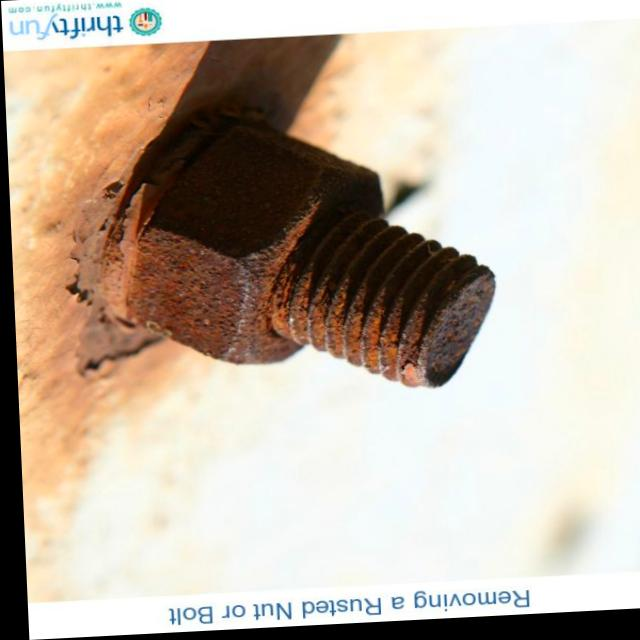Rusty bolt: (122, 118, 399, 373)
